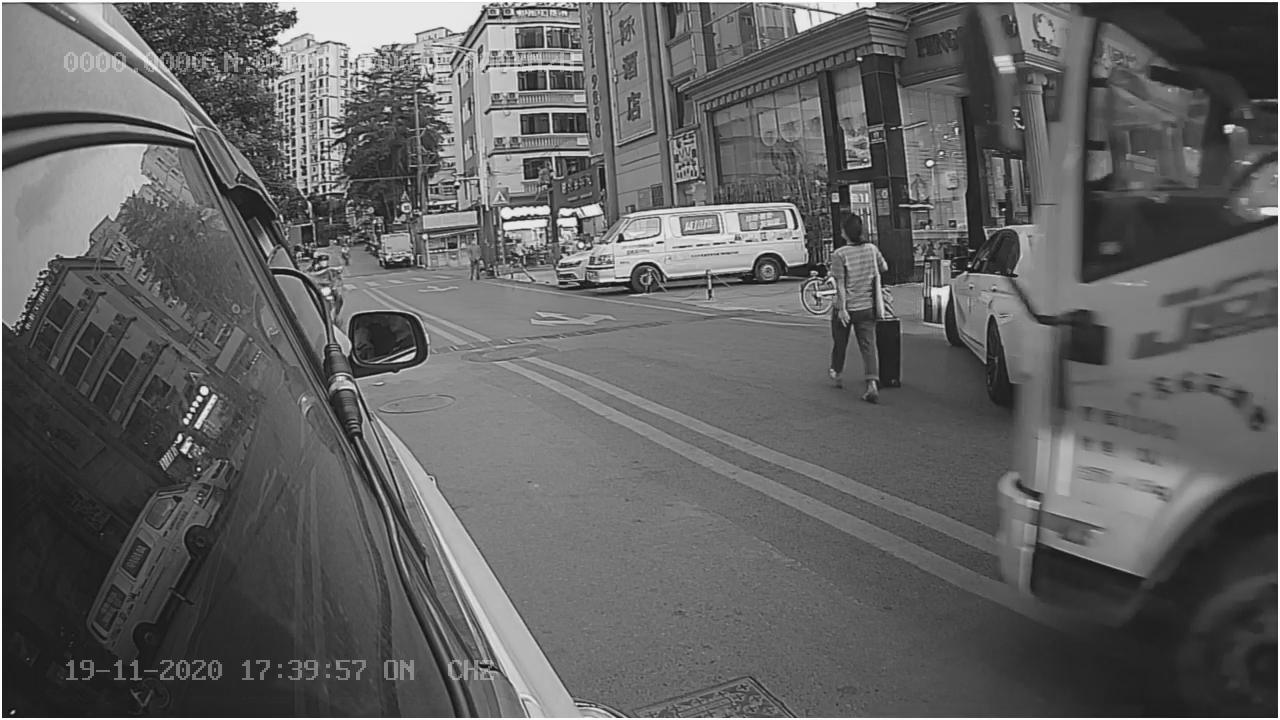person: (823, 211, 894, 409)
